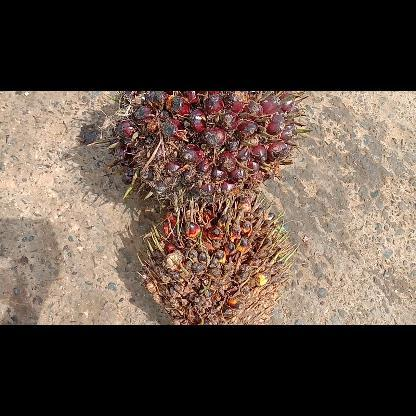Kurang masak: (87, 90, 311, 208)
TBS abnormal: (137, 190, 299, 324)
